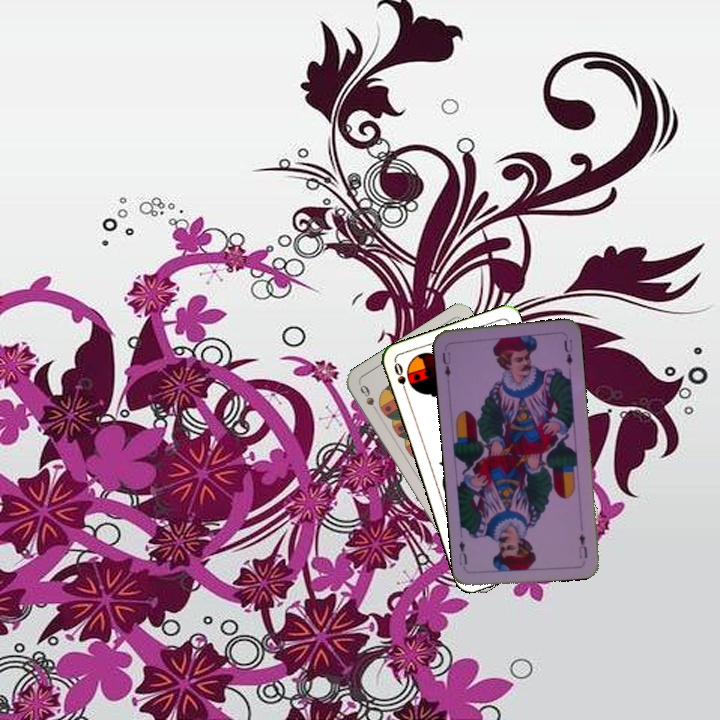EU: (575, 529, 590, 561), (438, 348, 453, 379)
S9: (356, 381, 377, 410)
SO: (390, 358, 410, 398)
